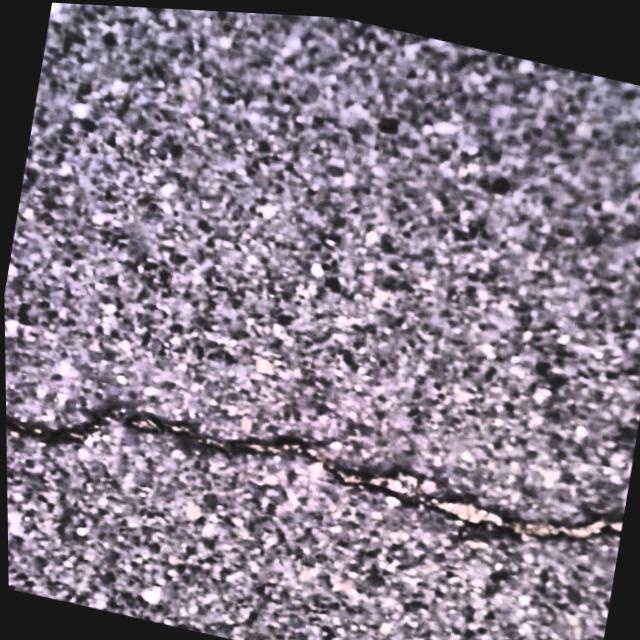cracks: (5, 353, 629, 606)
